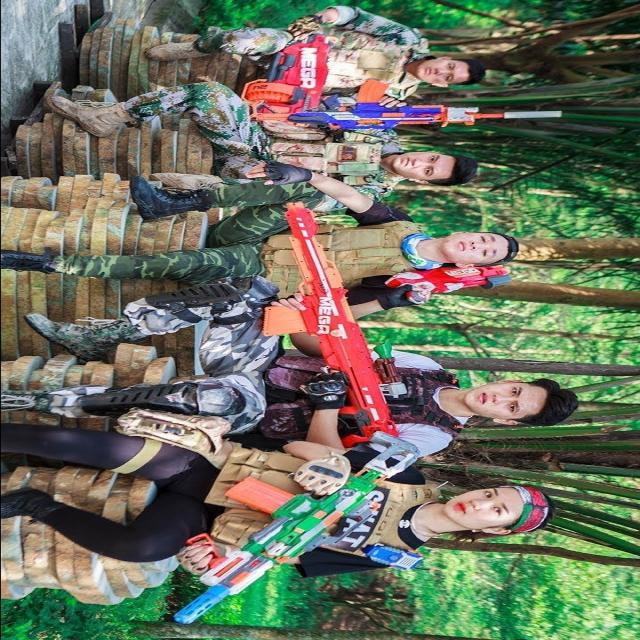Nerf gun: (169, 432, 416, 626), (258, 192, 412, 448), (242, 71, 567, 140), (239, 26, 339, 124), (382, 258, 532, 307)
